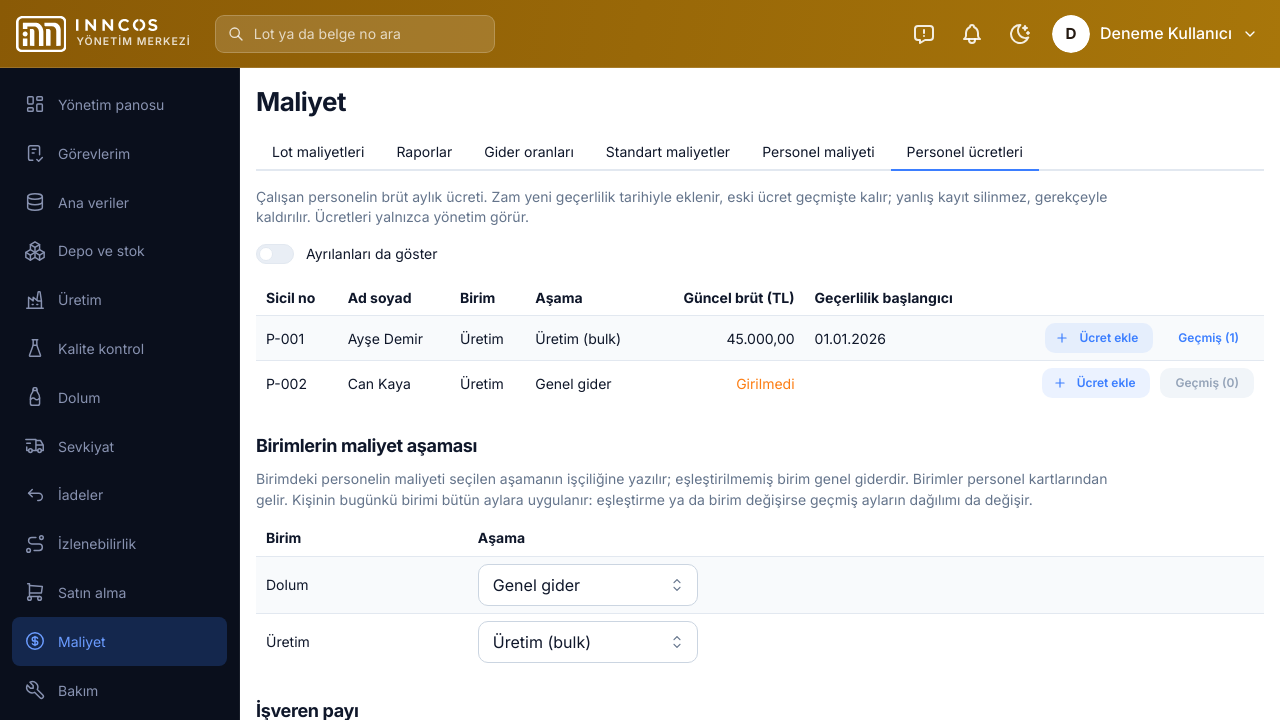
Test case: personel ücretleri › ücret binlik ayraçla girilir; geçersiz tutar kaydedilmez
Check: the text "45.000,00" is shown, box [726,330,794,346]
Check: the text "Girilmedi" is shown, box [736,374,794,392]
Click the button with aria-label "Ücret ekle: Ayşe Demir" at x=1099, y=338, box [1045,323,1153,353]
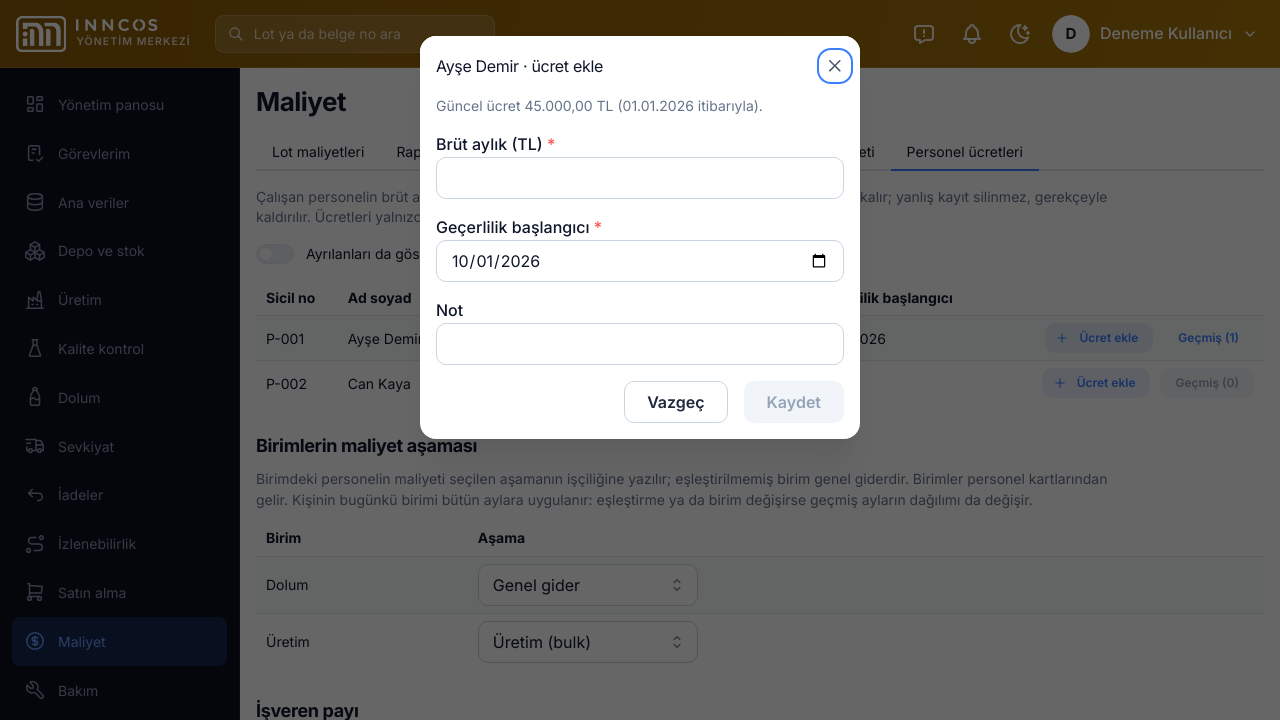
Check: the text "Güncel ücret 45.000,00 TL (01.01.2026 itibarıyla)." is shown, box [436,97,763,114]
Type "48.500,123" into the field labelled "Brüt aylık (TL) *" at x=640, y=178, box [436,157,844,199]
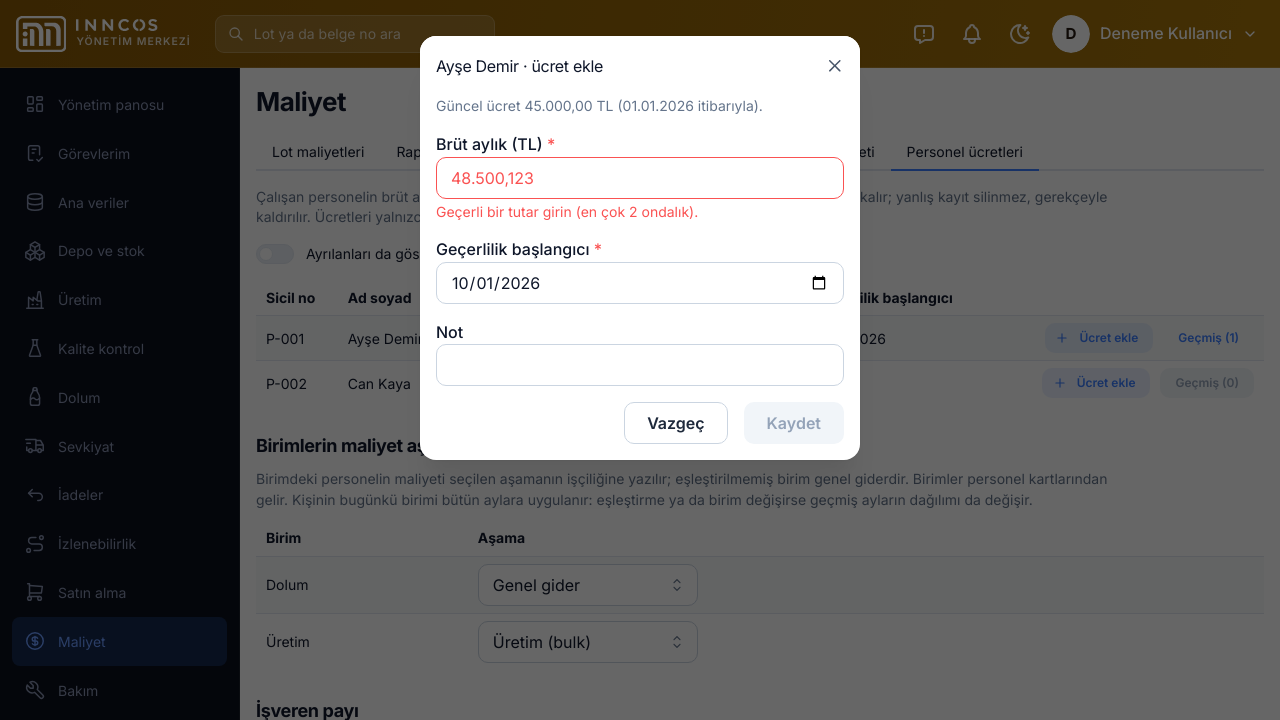
Check: the button "Kaydet" is disabled, box [744,402,844,444]
Check: the text "Geçerli bir tutar girin (en çok 2 ondalık)." is shown, box [436,203,698,220]
Replace the text in the field labelled "Brüt aylık (TL) *" with "48.500" at x=640, y=178, box [436,157,844,199]
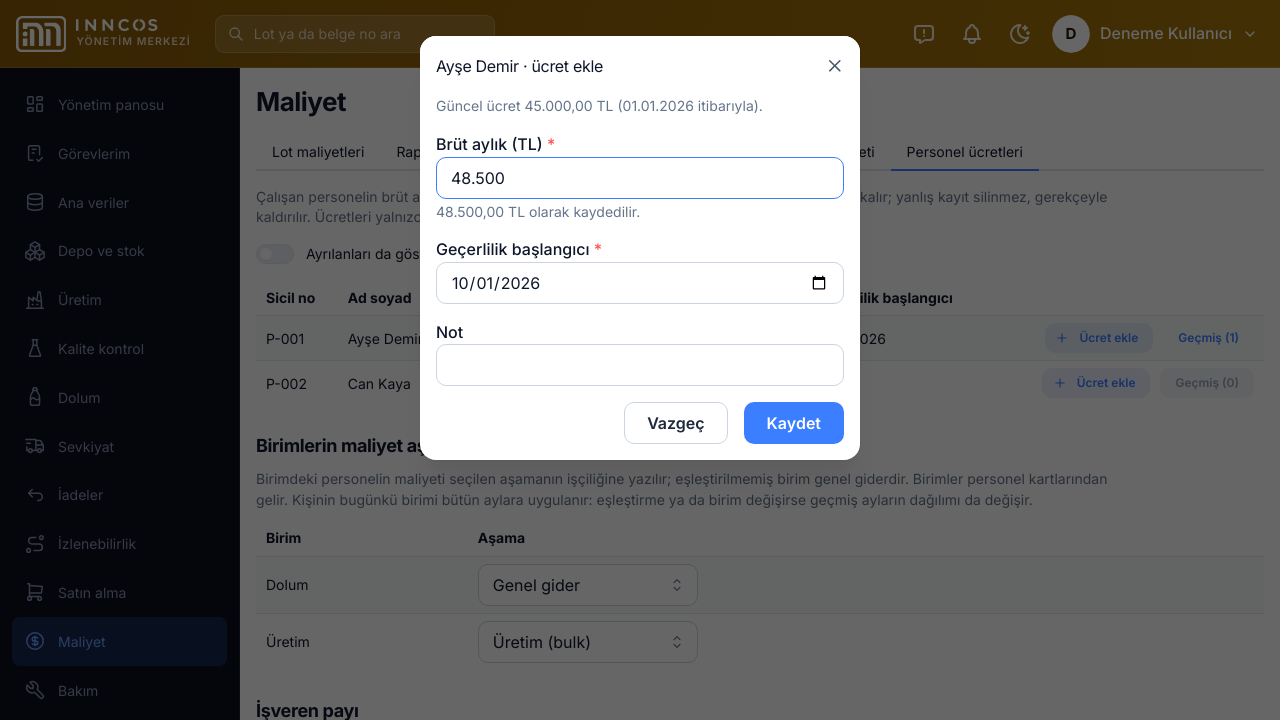
Check: the text "48.500,00 TL olarak kaydedilir." is shown, box [436,203,640,220]
Type "2026-11-01" into the date field labelled "Geçerlilik başlangıcı *" at x=640, y=283, box [436,262,844,304]
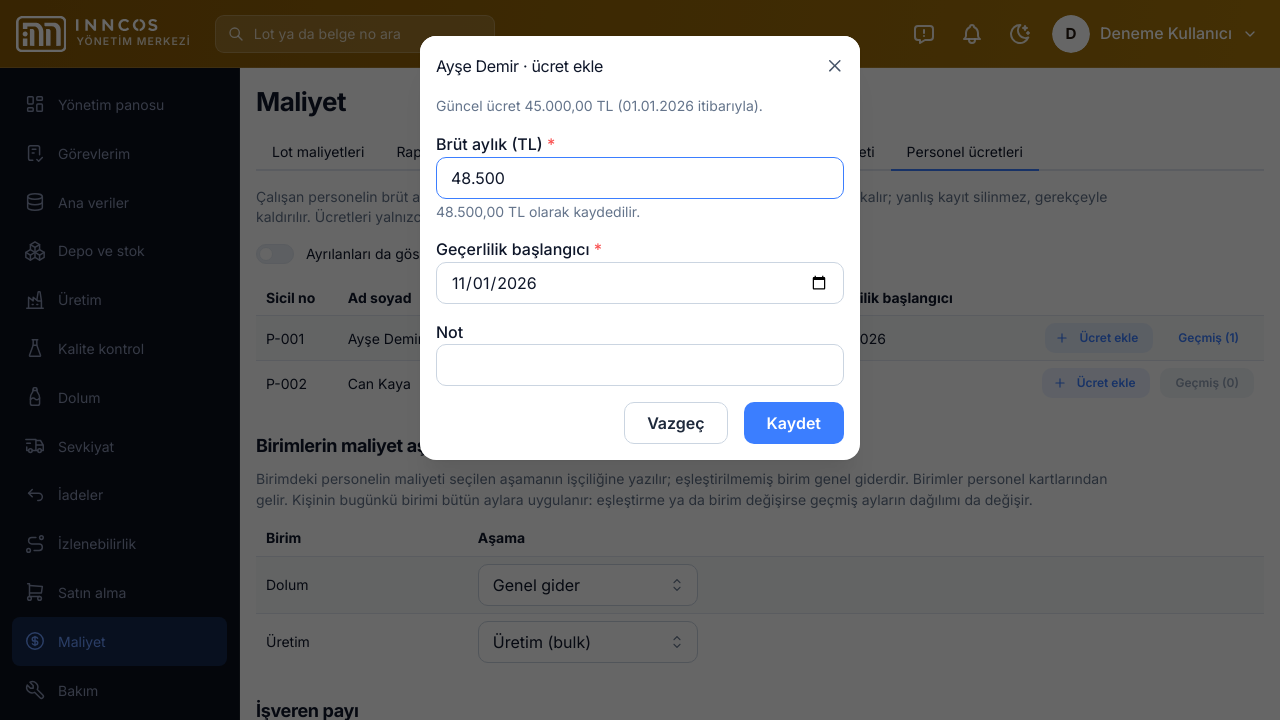
Type "Zam" into the field labelled "Not" at x=640, y=366, box [436,344,844,386]
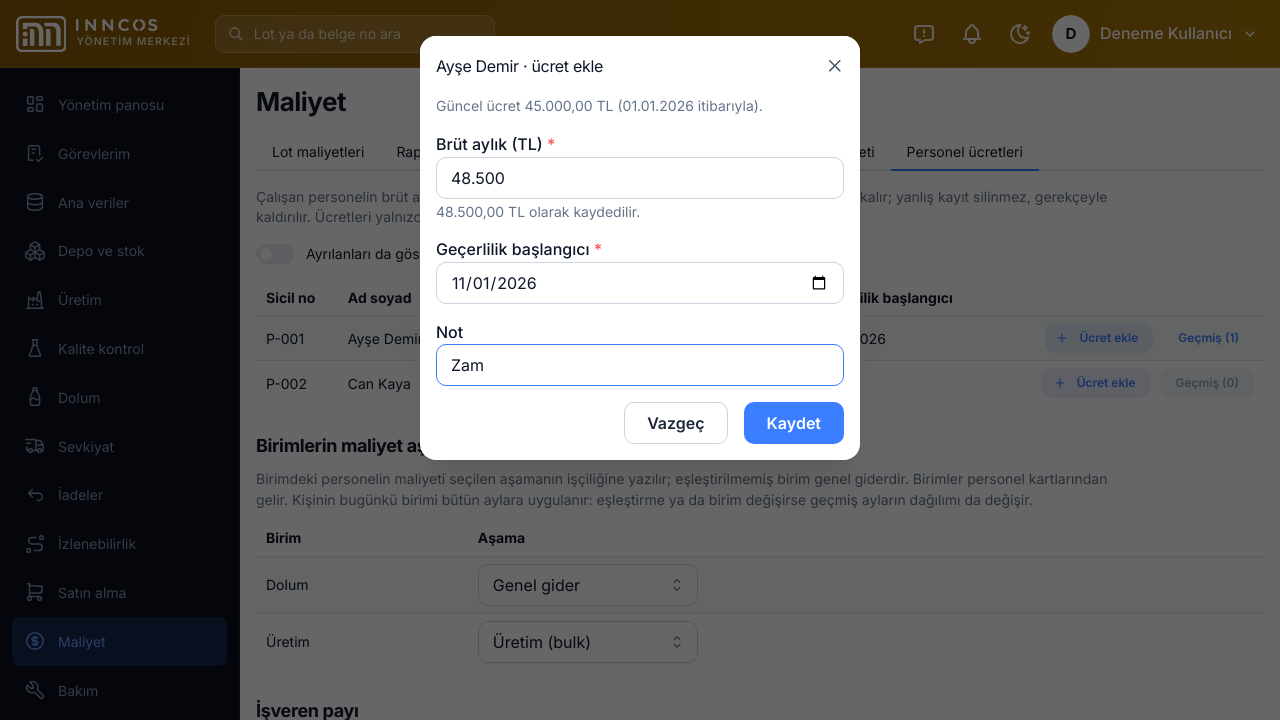
Click the button "Kaydet" at x=794, y=424, box [744,402,844,444]
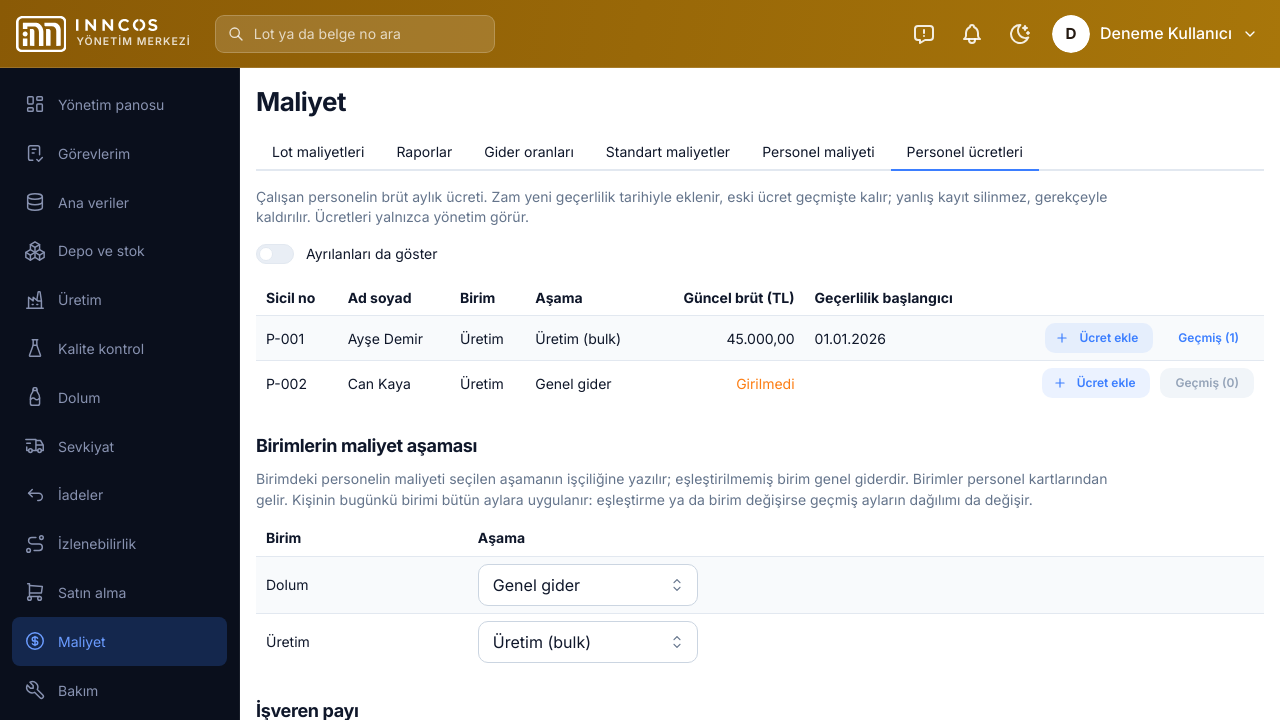
Check: the dialog is gone
